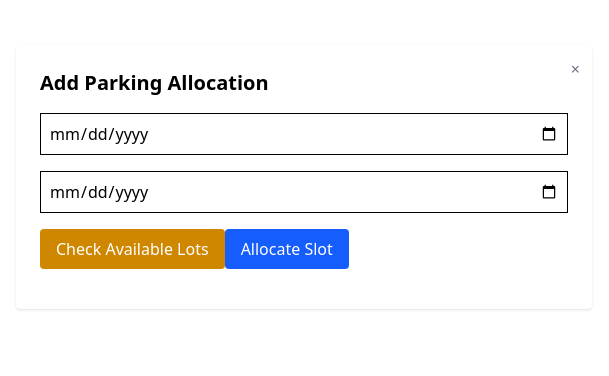
Test: AddAllocation component › fetches available lots after clicking check available lots with valid dates
Type "2025-08-01" into the 1st date field named "fromDate" at (304, 134), box [40,113,568,155]
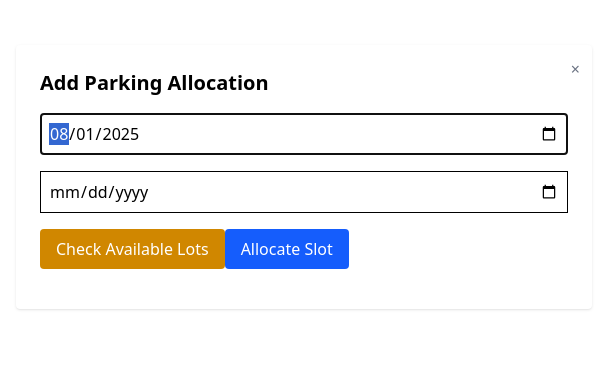
Type "2025-08-05" into the 2nd date field named "toDate" at (304, 192), box [40,171,568,213]
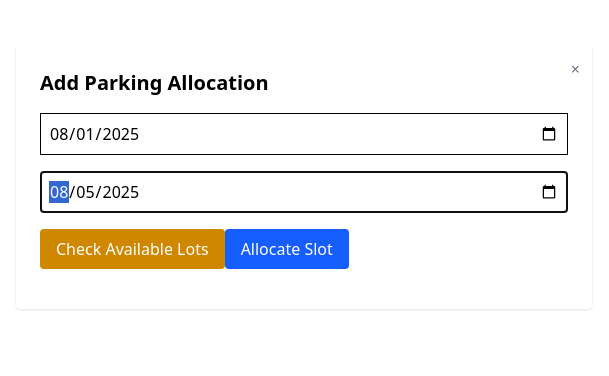
Click the button "Check Available Lots" at (132, 249), box [40,229,225,269]
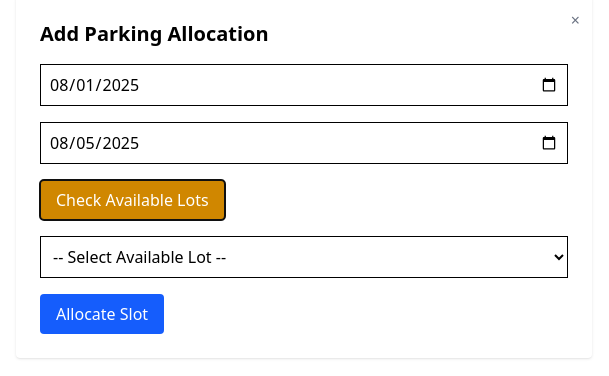
Now the dropdown is shown, box [40,236,568,278]
